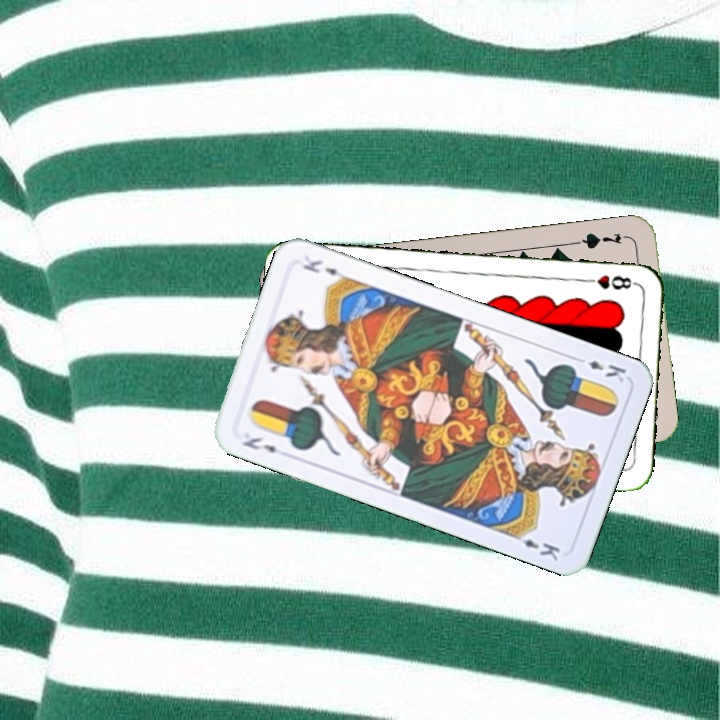EK: (571, 352, 629, 385), (238, 433, 279, 456)
G7: (572, 229, 631, 252)
H8: (579, 271, 639, 292)
